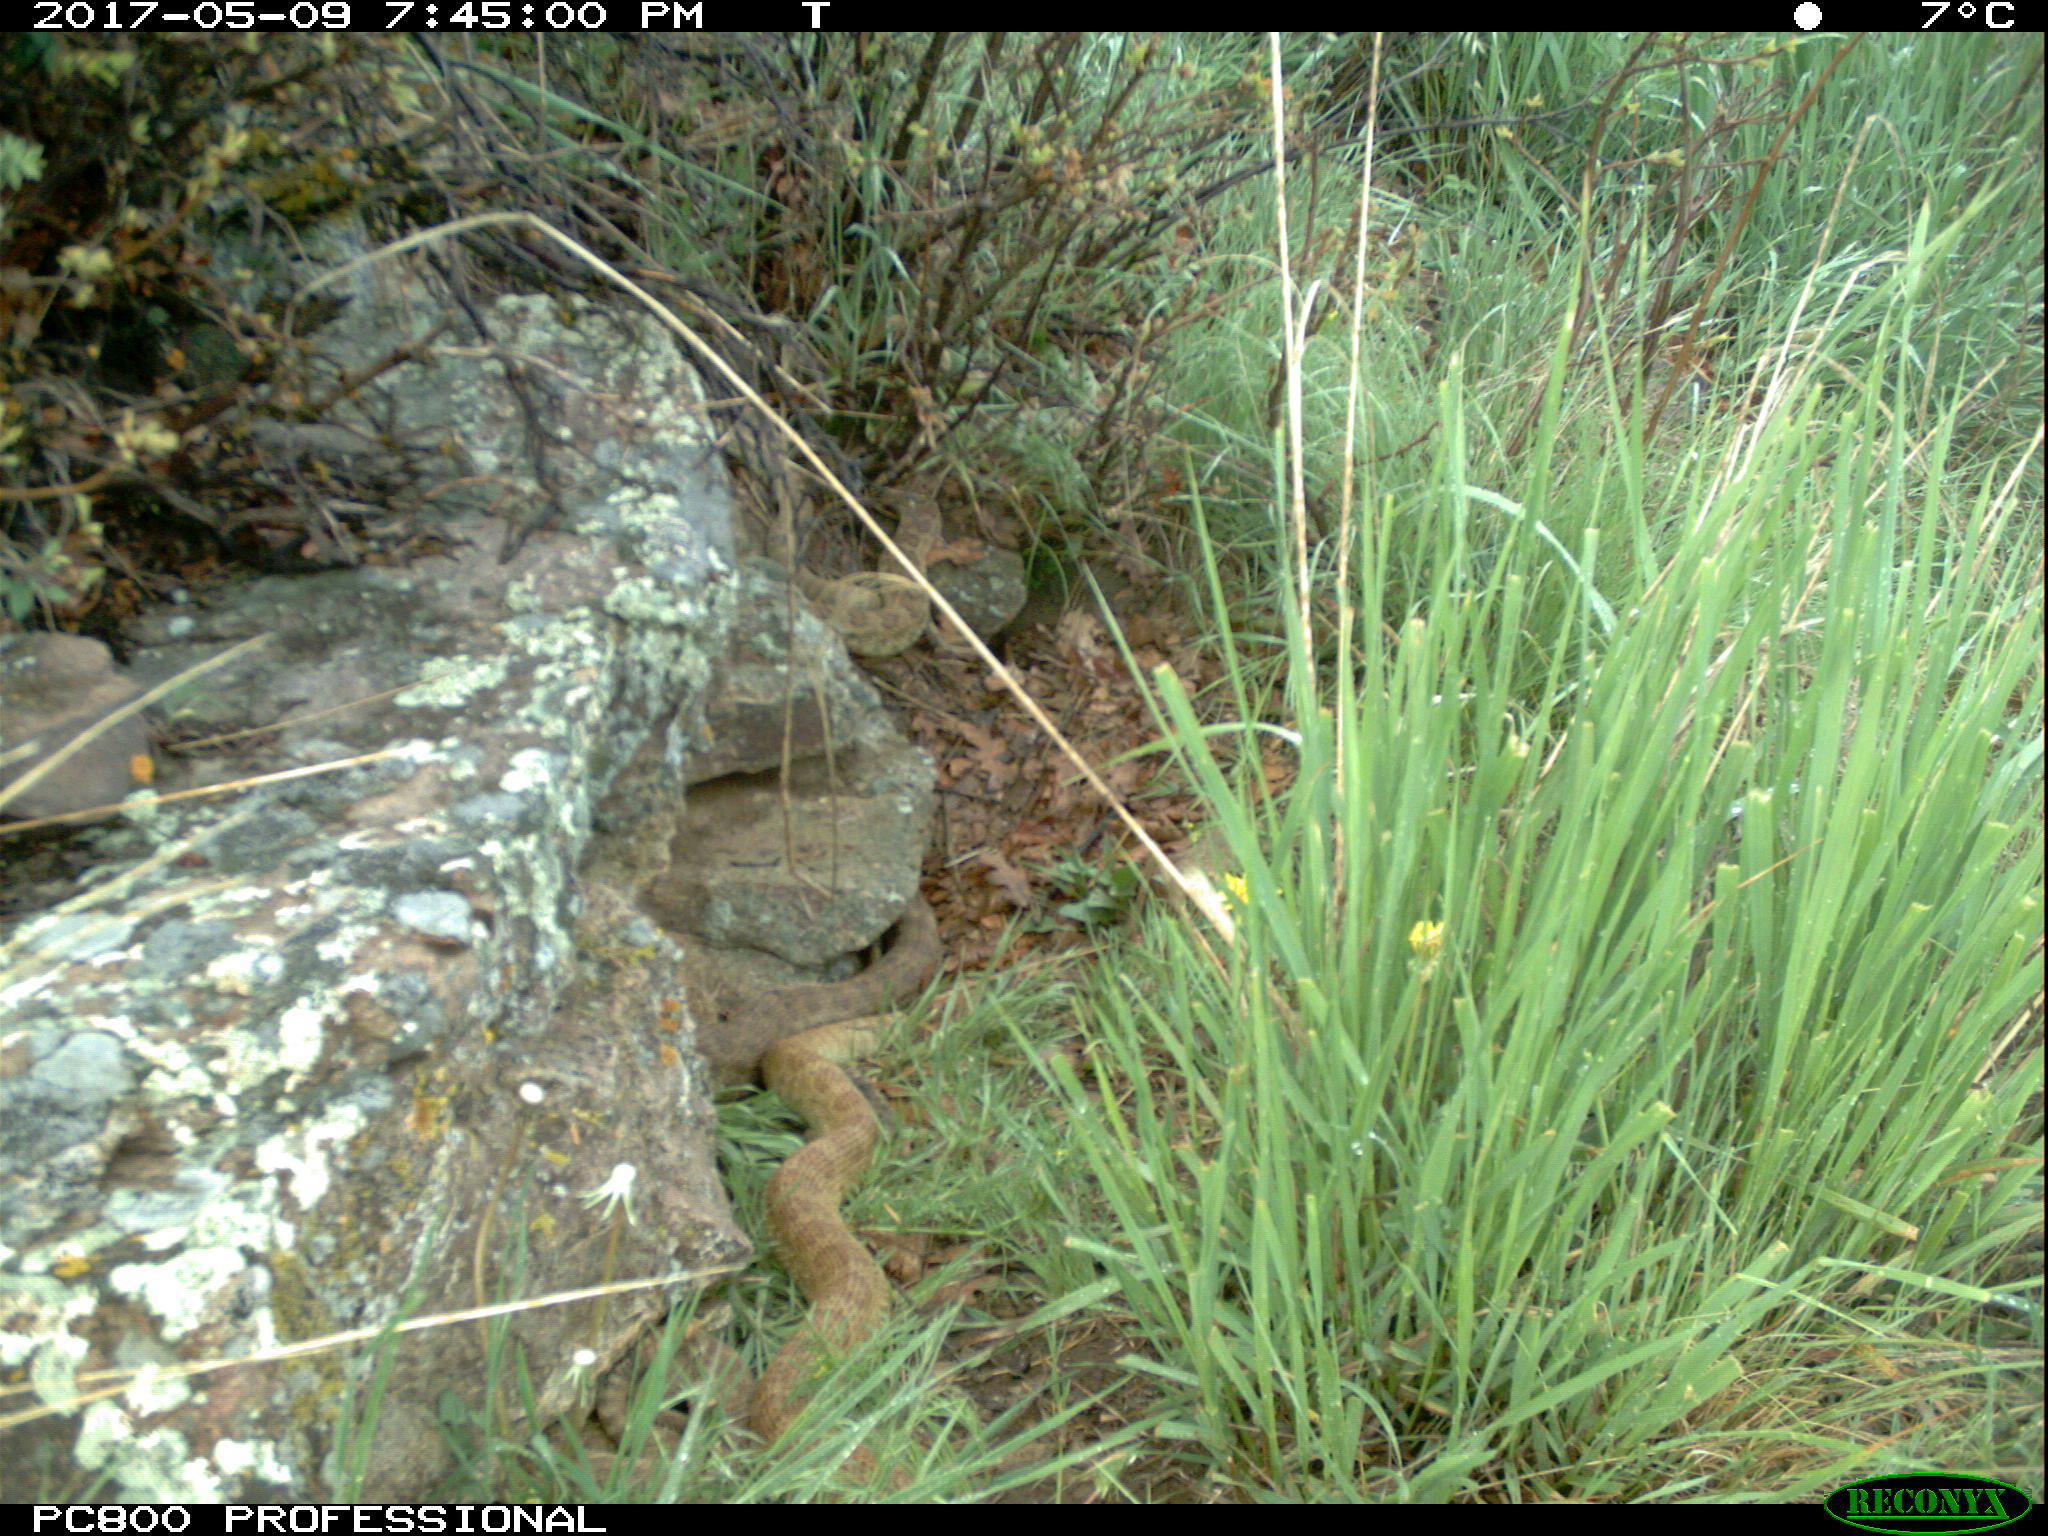snake: (693, 889, 908, 1494), (756, 461, 935, 665)
